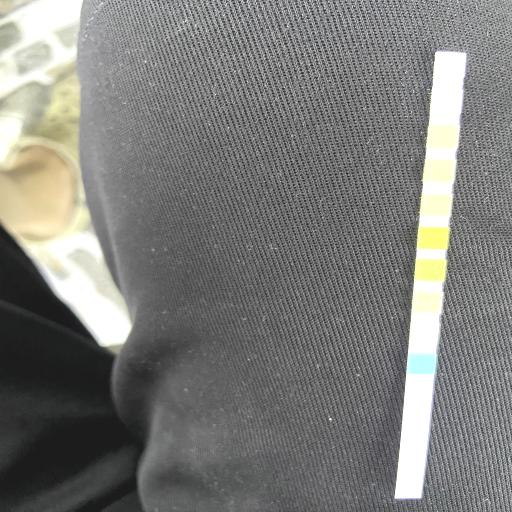Bilirubin: (411, 324, 437, 344)
Blood: (418, 227, 446, 249)
Glucose: (408, 354, 434, 374)
Ketone: (413, 292, 441, 313)
Leukocytes: (436, 52, 464, 76)
Nitrite: (433, 90, 460, 114)
Protein: (425, 160, 453, 182)
SpGravity: (416, 260, 444, 282)
Urobilinogen: (429, 126, 457, 148)
pH: (422, 194, 450, 216)
strip: (396, 52, 466, 498)
